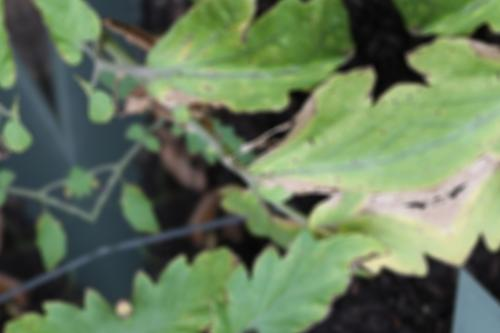Tomato Early blight leaf: (221, 53, 435, 250), (125, 0, 373, 150), (181, 200, 411, 333)
